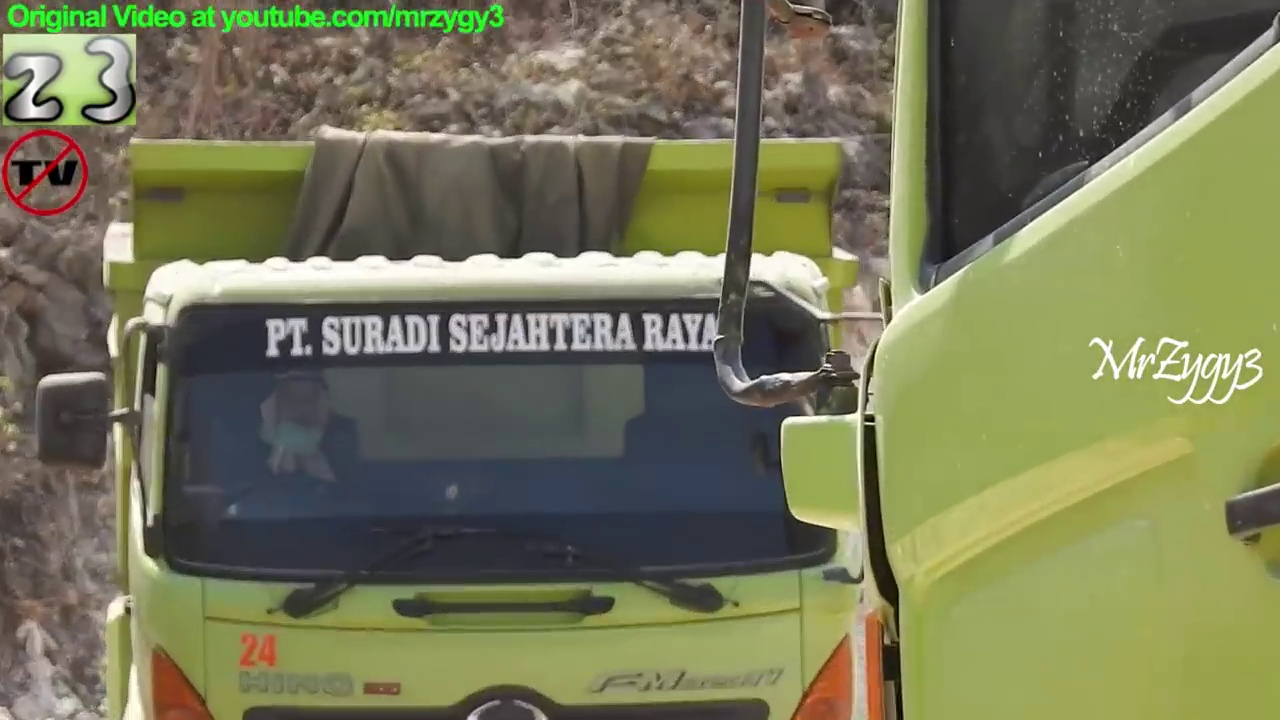truck: (26, 123, 984, 720), (689, 1, 1280, 720)
